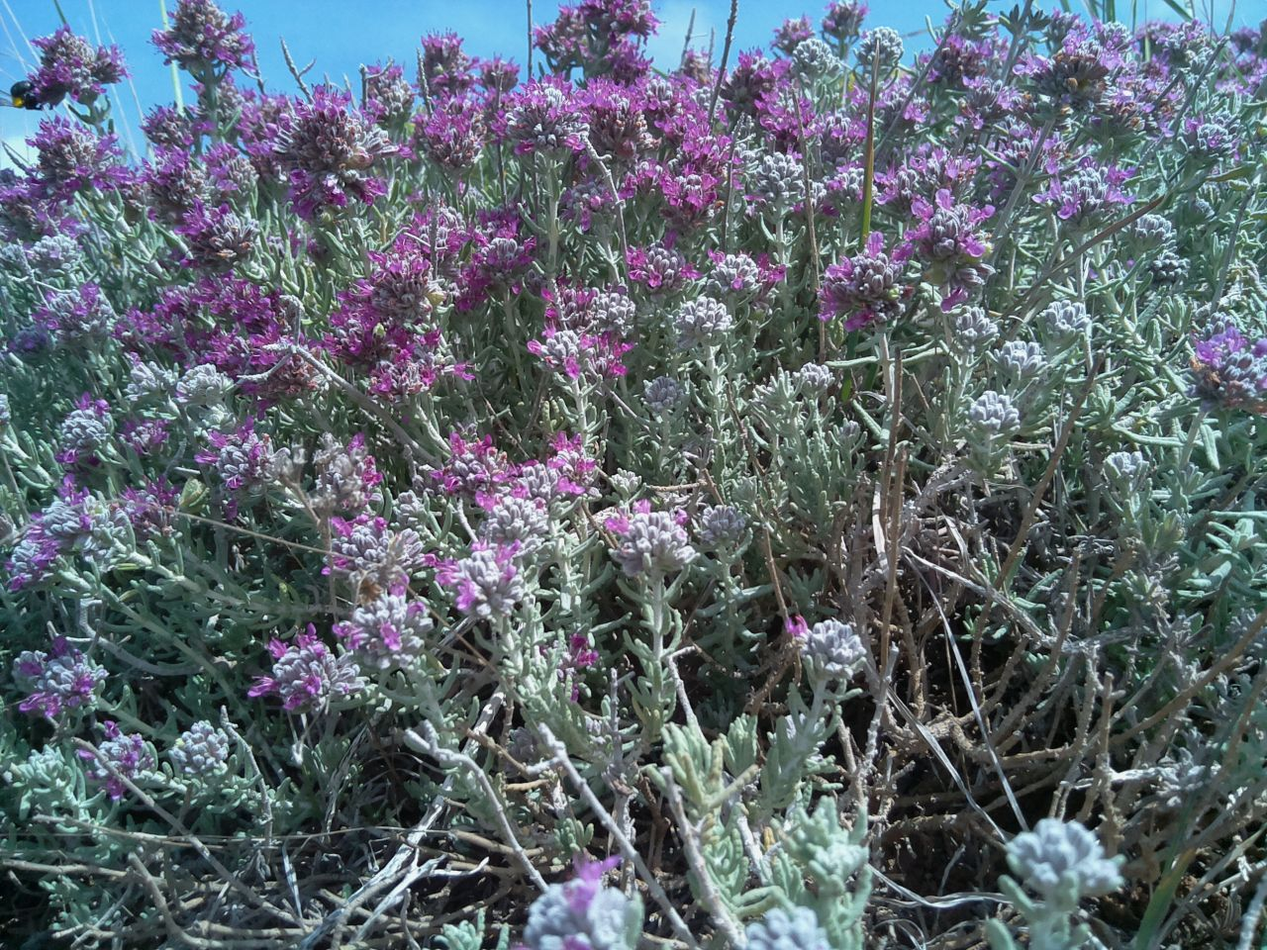bee: (5, 76, 49, 126)
